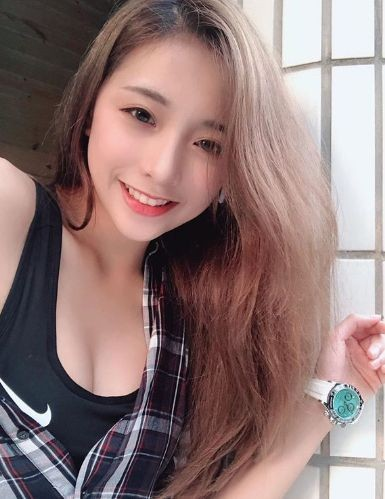people: (14, 1, 255, 499)
